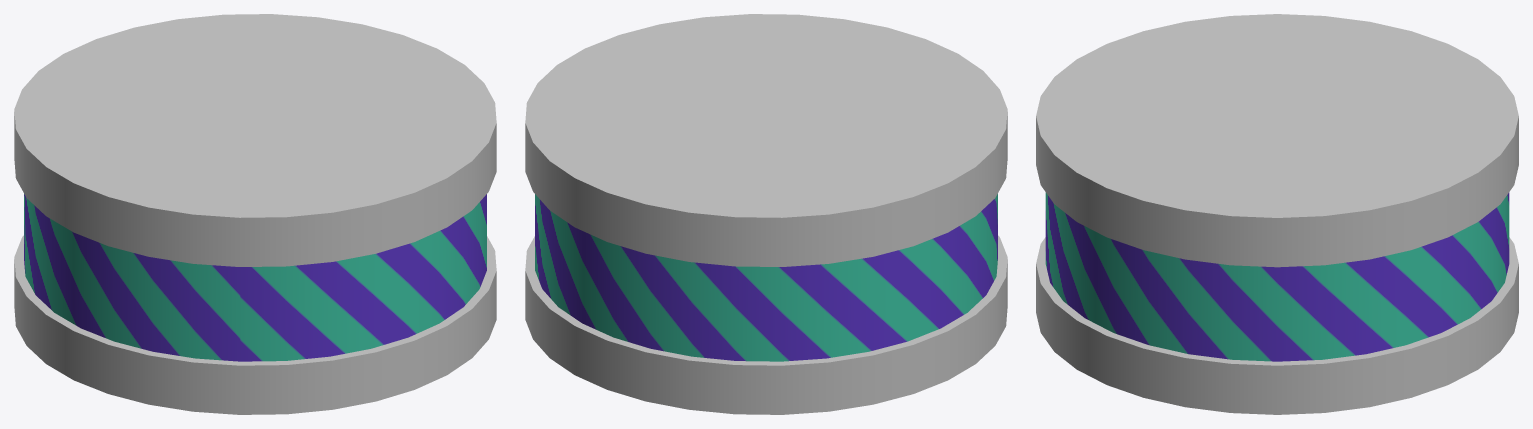
Rendered from GREEN_CylinderA_move.FBX.
3 renders of one model, left to right at view 1: azimuth 30°, elevation 25°; view 2: azimuth 150°, elevation 25°; view 3: azimuth 270°, elevation 25°, orthographic.
Parts seen in each view (by area): view 1: GREEN_CylinderA_move, RotateMesh; view 2: GREEN_CylinderA_move, RotateMesh; view 3: GREEN_CylinderA_move, RotateMesh.
Boxes of the visible parts, <box> form: GREEN_CylinderA_move: <box>14,14,496,414</box>; RotateMesh: <box>24,194,486,361</box>; GREEN_CylinderA_move: <box>525,14,1007,414</box>; RotateMesh: <box>535,194,997,361</box>; GREEN_CylinderA_move: <box>1036,14,1518,414</box>; RotateMesh: <box>1045,192,1509,361</box>.
Bounding box in the file's own units: 60 × 27 × 60.
